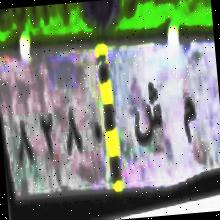0: (89, 104, 108, 156)
2: (36, 101, 62, 163)
8: (59, 90, 88, 167), (14, 112, 36, 178)
meem: (174, 92, 207, 156)
sheen: (126, 76, 168, 151)
